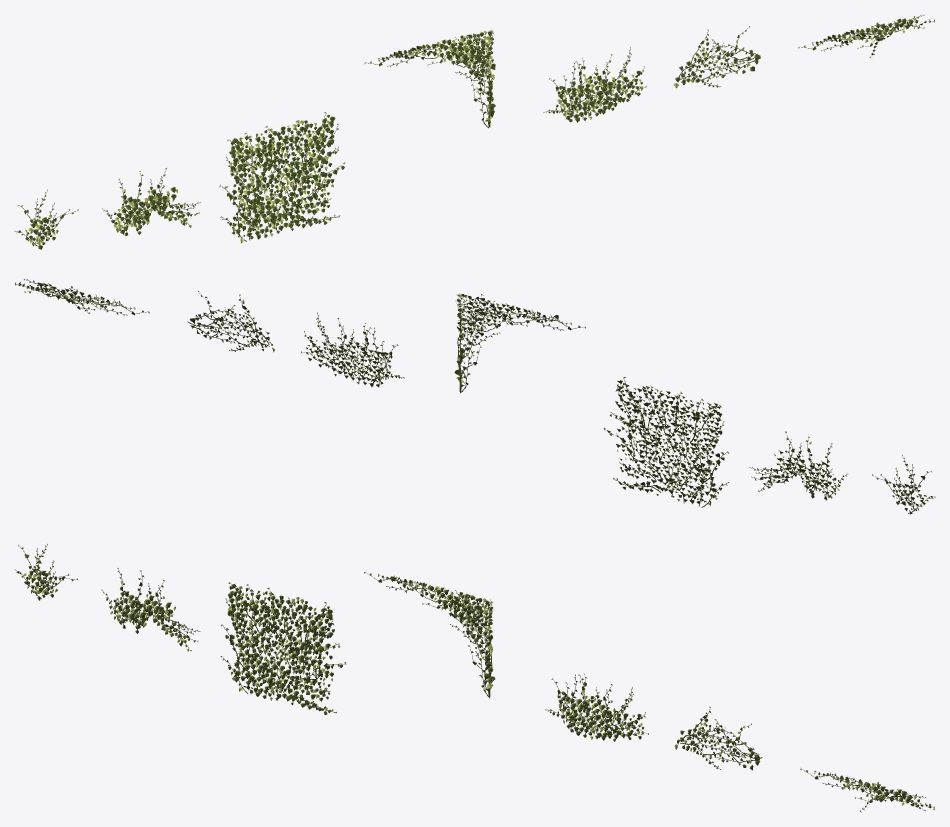
Rendered from Common ivy.fbx.
The picture shows the model from 3 angles, top to bottom: view 1: azimuth 30°, elevation 25°; view 2: azimuth 150°, elevation 25°; view 3: azimuth 330°, elevation 25°; orthographic projection.
Visible parts, largest first — view 1: Common ivy.001, Common ivy, Common ivy.002, Common ivy.003, Common ivy.004, Common ivy.006, Common ivy.005; view 2: Common ivy.001, Common ivy, Common ivy.002, Common ivy.003, Common ivy.004, Common ivy.006, Common ivy.005; view 3: Common ivy.001, Common ivy, Common ivy.002, Common ivy.003, Common ivy.004, Common ivy.006, Common ivy.005.
Part boxes in pixels (<box>): Common ivy.001: <box>219,112,345,243</box>; Common ivy: <box>364,30,495,128</box>; Common ivy.002: <box>543,47,646,122</box>; Common ivy.003: <box>102,168,200,236</box>; Common ivy.004: <box>673,26,760,88</box>; Common ivy.006: <box>798,14,934,57</box>; Common ivy.005: <box>14,189,78,249</box>; Common ivy.001: <box>603,377,729,507</box>; Common ivy: <box>454,293,585,393</box>; Common ivy.002: <box>301,312,404,387</box>; Common ivy.003: <box>749,431,847,500</box>; Common ivy.004: <box>187,291,274,352</box>; Common ivy.006: <box>15,279,149,315</box>; Common ivy.005: <box>872,455,935,514</box>; Common ivy.001: <box>220,582,346,714</box>; Common ivy: <box>364,572,495,698</box>; Common ivy.002: <box>545,673,648,741</box>; Common ivy.003: <box>101,568,200,651</box>; Common ivy.004: <box>674,706,762,770</box>; Common ivy.006: <box>800,768,934,812</box>; Common ivy.005: <box>14,544,77,600</box>.
Size of the model in its own units: 877 by 144 by 14.64.
